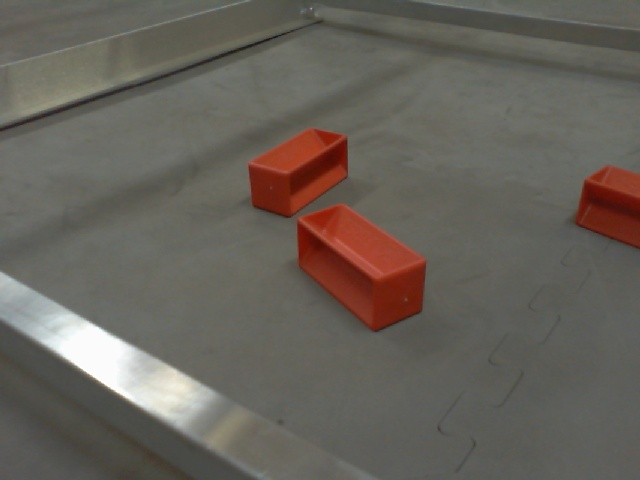RedSample: (296, 201, 424, 330), (246, 122, 351, 217), (572, 162, 640, 249)
